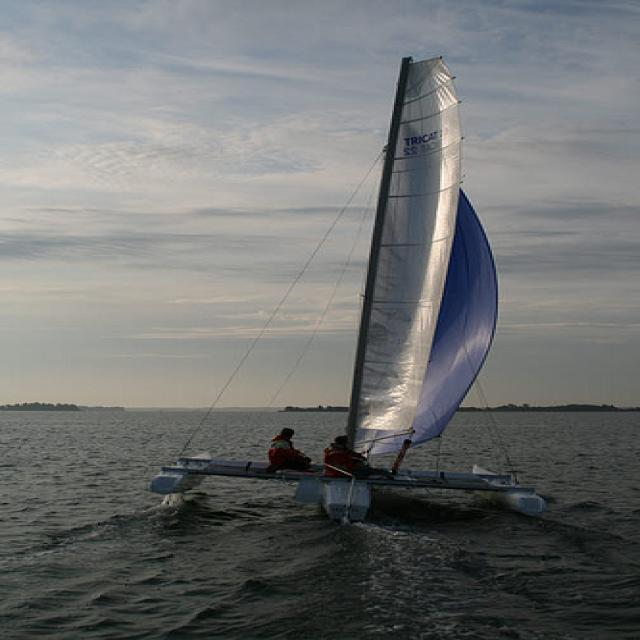Ship: (147, 49, 576, 521)
